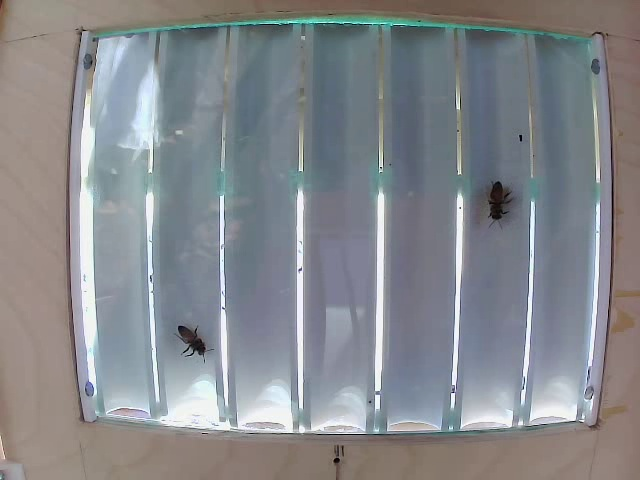bee: (164, 318, 208, 369), (472, 178, 508, 214)
